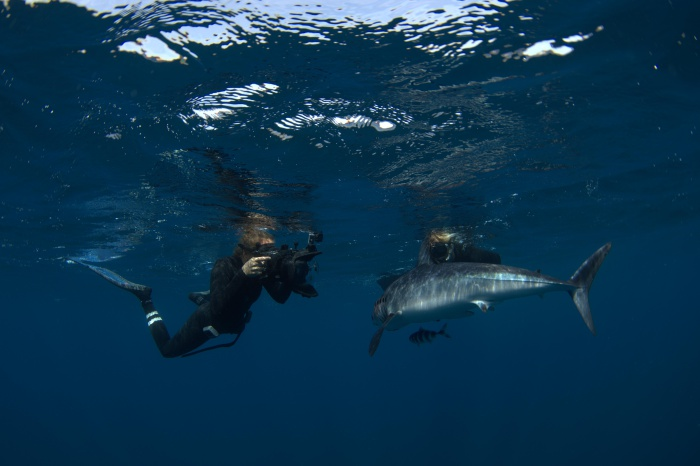Mako: (348, 230, 623, 360)
